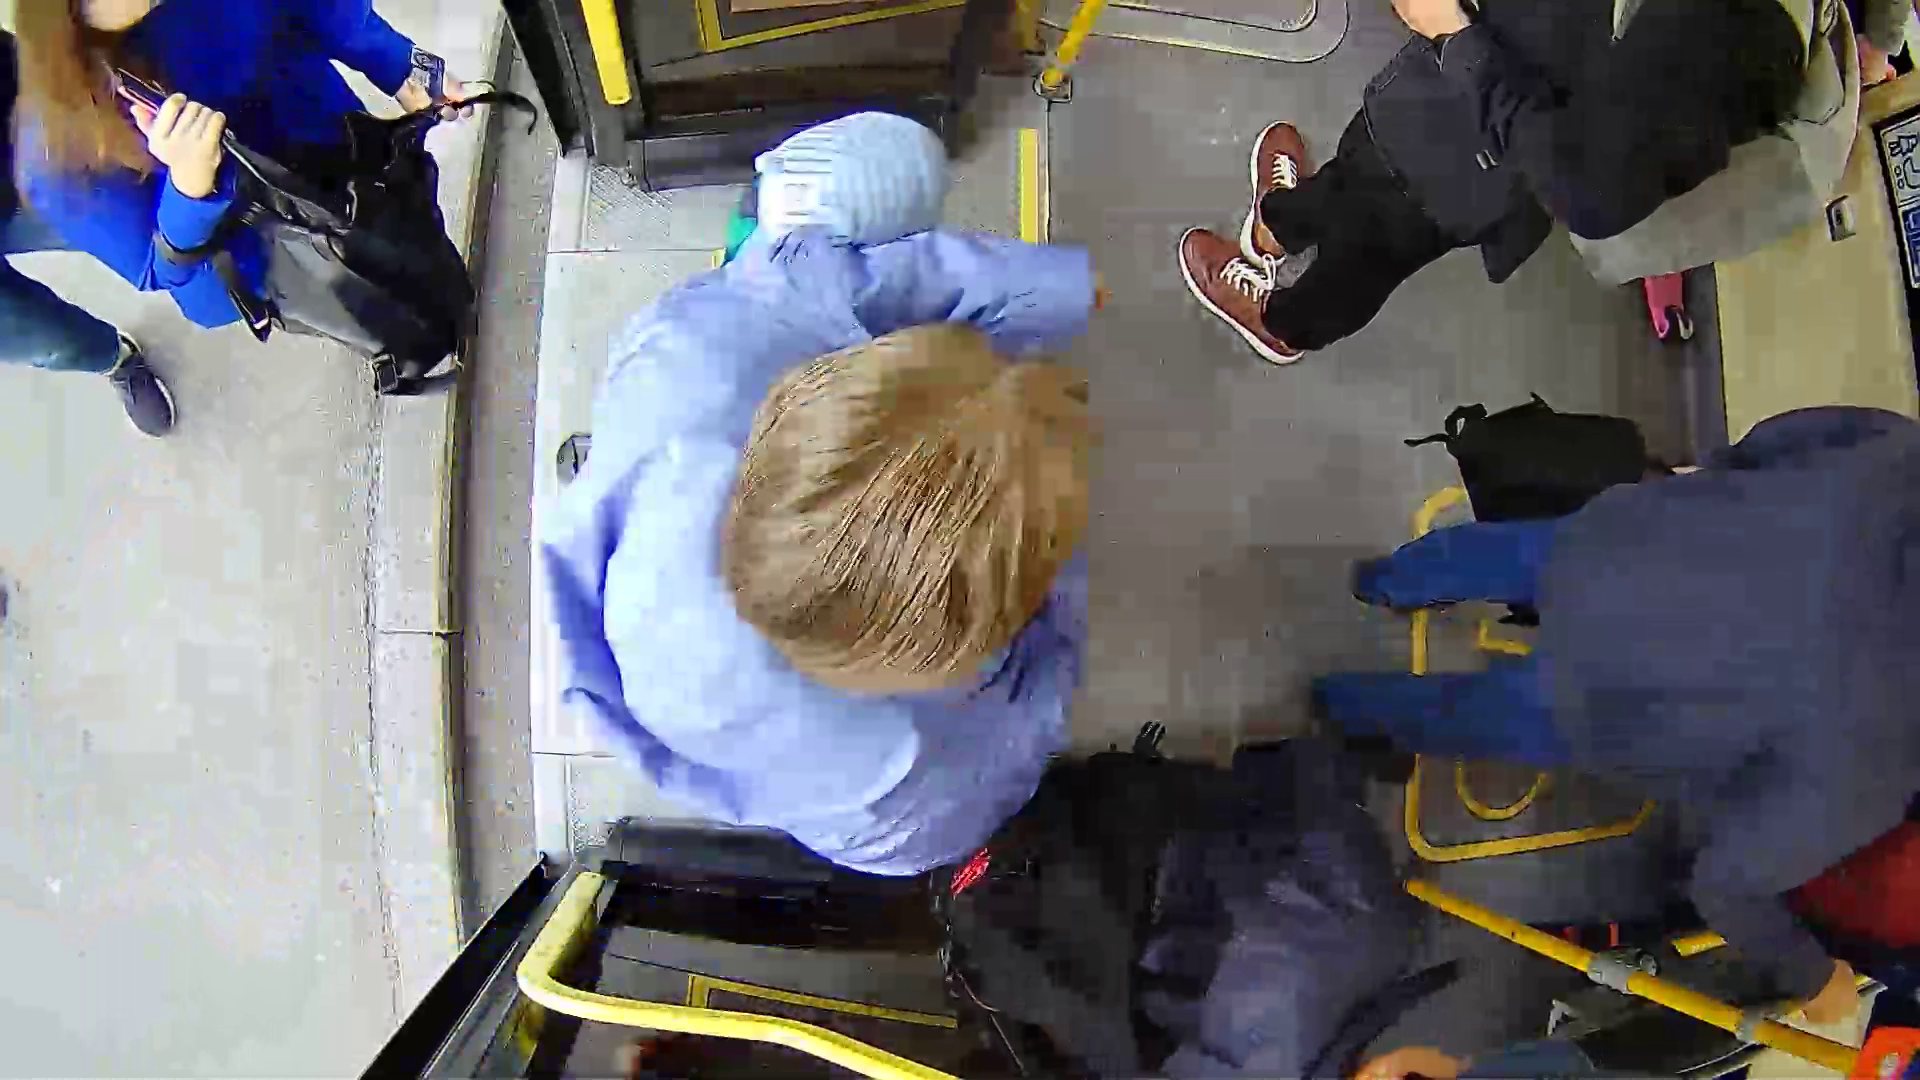person: (501, 200, 1246, 803), (13, 8, 668, 468)
